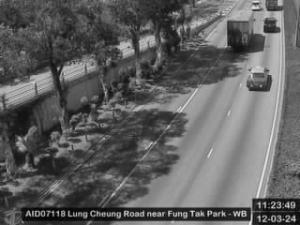truck: (226, 12, 251, 46), (265, 1, 277, 12)
vehicle: (246, 66, 272, 91), (265, 17, 277, 31), (252, 1, 262, 10)
